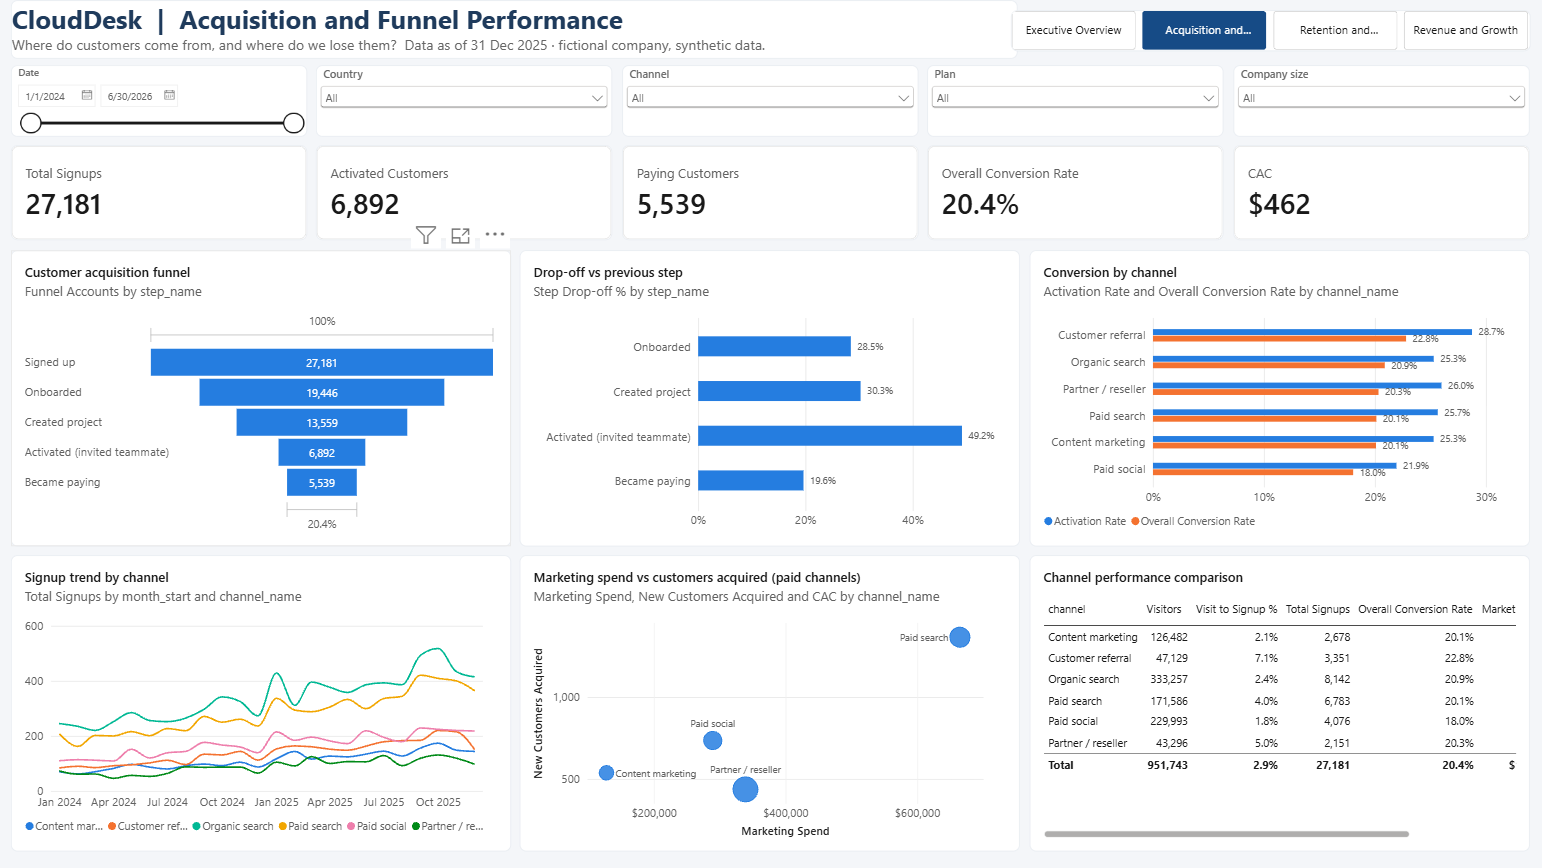

The dashboard page shown, as its layout file describes it:
{"tool":"powerbi","page":{"name":"Acquisition and Funnel","canvas":[1920,1080],"ordinal":1},"visuals":[{"type":"textbox","box":[24,8,1240,72],"z":0},{"type":"pageNavigator","box":[1256,20,640,50],"z":1000},{"type":"slicer","fields":{"Values":["dim_date.date"]},"box":[24,88,365,88],"z":2000},{"type":"slicer","fields":{"Values":["dim_accounts.country"]},"box":[401,88,365,88],"z":3000},{"type":"slicer","fields":{"Values":["dim_channel.channel_name"]},"box":[778,88,365,88],"z":4000},{"type":"slicer","fields":{"Values":["dim_plans.plan_name"]},"box":[1154,88,365,88],"z":5000},{"type":"slicer","fields":{"Values":["dim_accounts.company_size"]},"box":[1531,88,365,88],"z":6000},{"type":"cardVisual","fields":{"Data":["_Measures.Total Signups"]},"box":[24,186,365,117],"z":7000},{"type":"cardVisual","fields":{"Data":["_Measures.Activated Customers"]},"box":[401,186,365,117],"z":8000},{"type":"cardVisual","fields":{"Data":["_Measures.Paying Customers"]},"box":[778,186,365,117],"z":9000},{"type":"cardVisual","fields":{"Data":["_Measures.Overall Conversion Rate"]},"box":[1154,186,365,117],"z":10000},{"type":"cardVisual","fields":{"Data":["_Measures.CAC"]},"box":[1531,186,365,117],"z":11000},{"type":"funnel","title":"Customer acquisition funnel","fields":{"Category":["fct_funnel_steps.step_name"],"Y":["_Measures.Funnel Accounts"]},"box":[24,315,616,365],"z":12000},{"type":"clusteredBarChart","title":"Drop-off vs previous step","fields":{"Category":["fct_funnel_steps.step_name"],"Y":["_Measures.Step Drop-off %"]},"box":[652,315,616,365],"z":13000},{"type":"clusteredBarChart","title":"Conversion by channel","fields":{"Category":["dim_channel.channel_name"],"Y":["_Measures.Activation Rate","_Measures.Overall Conversion Rate"]},"box":[1280,315,616,365],"z":14000},{"type":"lineChart","title":"Signup trend by channel","fields":{"Category":["dim_date.month_start"],"Series":["dim_channel.channel_name"],"Y":["_Measures.Total Signups"]},"box":[24,692,616,365],"z":15000},{"type":"scatterChart","title":"Marketing spend vs customers acquired (paid channels)","fields":{"Category":["dim_channel.channel_name"],"Size":["_Measures.CAC"],"X":["_Measures.Marketing Spend"],"Y":["_Measures.New Customers Acquired"]},"box":[652,692,616,365],"z":16000},{"type":"tableEx","title":"Channel performance comparison","fields":{"Values":["dim_channel.channel_name","_Measures.Visitors","_Measures.Visit to Signup %","_Measures.Total Signups","_Measures.Overall Conversion Rate","_Measures.Marketing Spend","_Measures.CAC","_Measures.LTV/CAC"]},"box":[1280,692,616,365],"z":17000}]}

Visuals, with their boxes in screenshot pixels (x1, y1, x2, y2), scaled from the page's 1920x1080 canvas onto the 1542x868 screenshot:
textbox: 19:6:1015:64
pageNavigator: 1009:16:1523:56
slicer - dim_date.date: 19:71:312:141
slicer - dim_accounts.country: 322:71:615:141
slicer - dim_channel.channel_name: 625:71:918:141
slicer - dim_plans.plan_name: 927:71:1220:141
slicer - dim_accounts.company_size: 1230:71:1523:141
cardVisual - _Measures.Total Signups: 19:149:312:244
cardVisual - _Measures.Activated Customers: 322:149:615:244
cardVisual - _Measures.Paying Customers: 625:149:918:244
cardVisual - _Measures.Overall Conversion Rate: 927:149:1220:244
cardVisual - _Measures.CAC: 1230:149:1523:244
"Customer acquisition funnel" funnel: 19:253:514:547
"Drop-off vs previous step" clusteredBarChart: 524:253:1018:547
"Conversion by channel" clusteredBarChart: 1028:253:1523:547
"Signup trend by channel" lineChart: 19:556:514:850
"Marketing spend vs customers acquired (paid channels)" scatterChart: 524:556:1018:850
"Channel performance comparison" tableEx: 1028:556:1523:850
